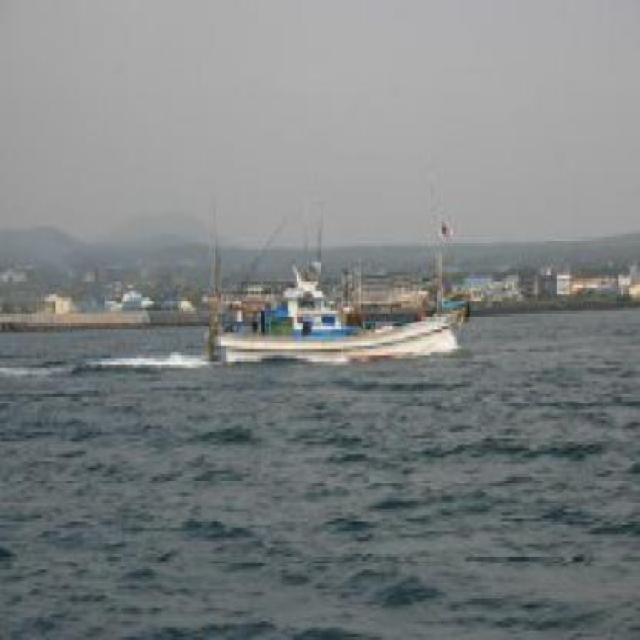fish-b: (185, 167, 500, 404)
